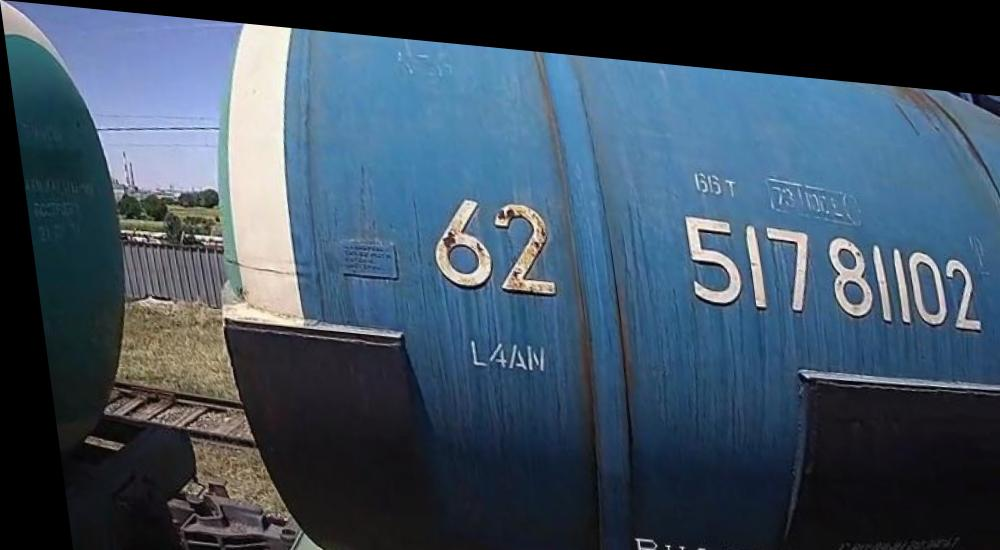Wagon-number: (671, 197, 984, 324)
